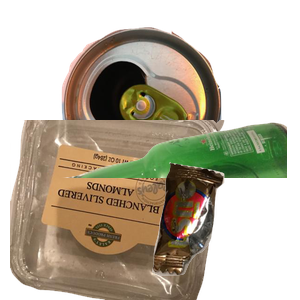glass: (60, 120, 300, 300)
metal: (59, 10, 273, 189)
plastic: (10, 120, 227, 300)
trash: (150, 160, 300, 300)
